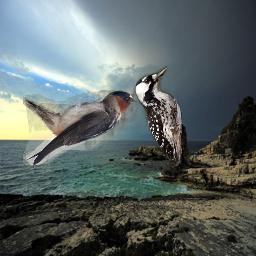Swallow: (23, 90, 139, 165)
Woodpecker: (133, 66, 182, 164)
